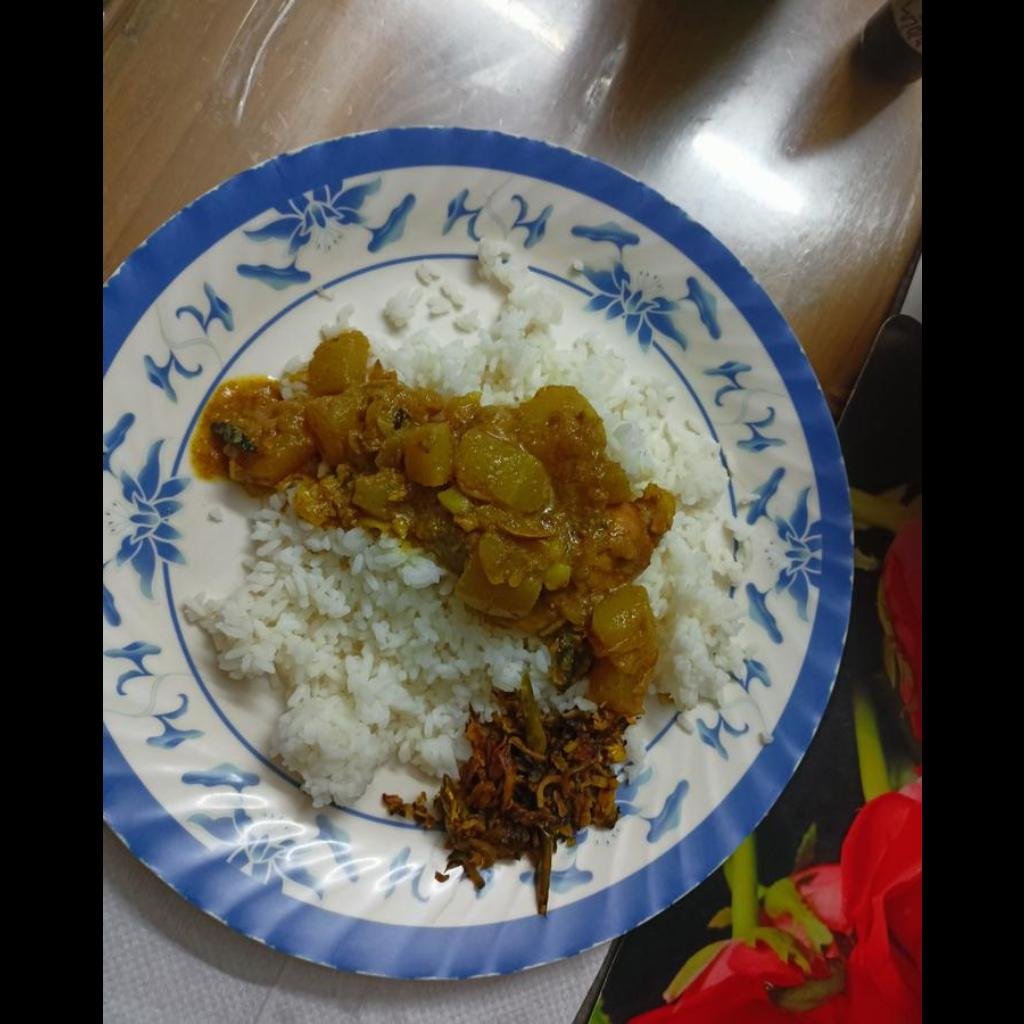rice: (177, 530, 523, 811)
vaji: (398, 681, 637, 876)
vegetable: (216, 325, 679, 715)
